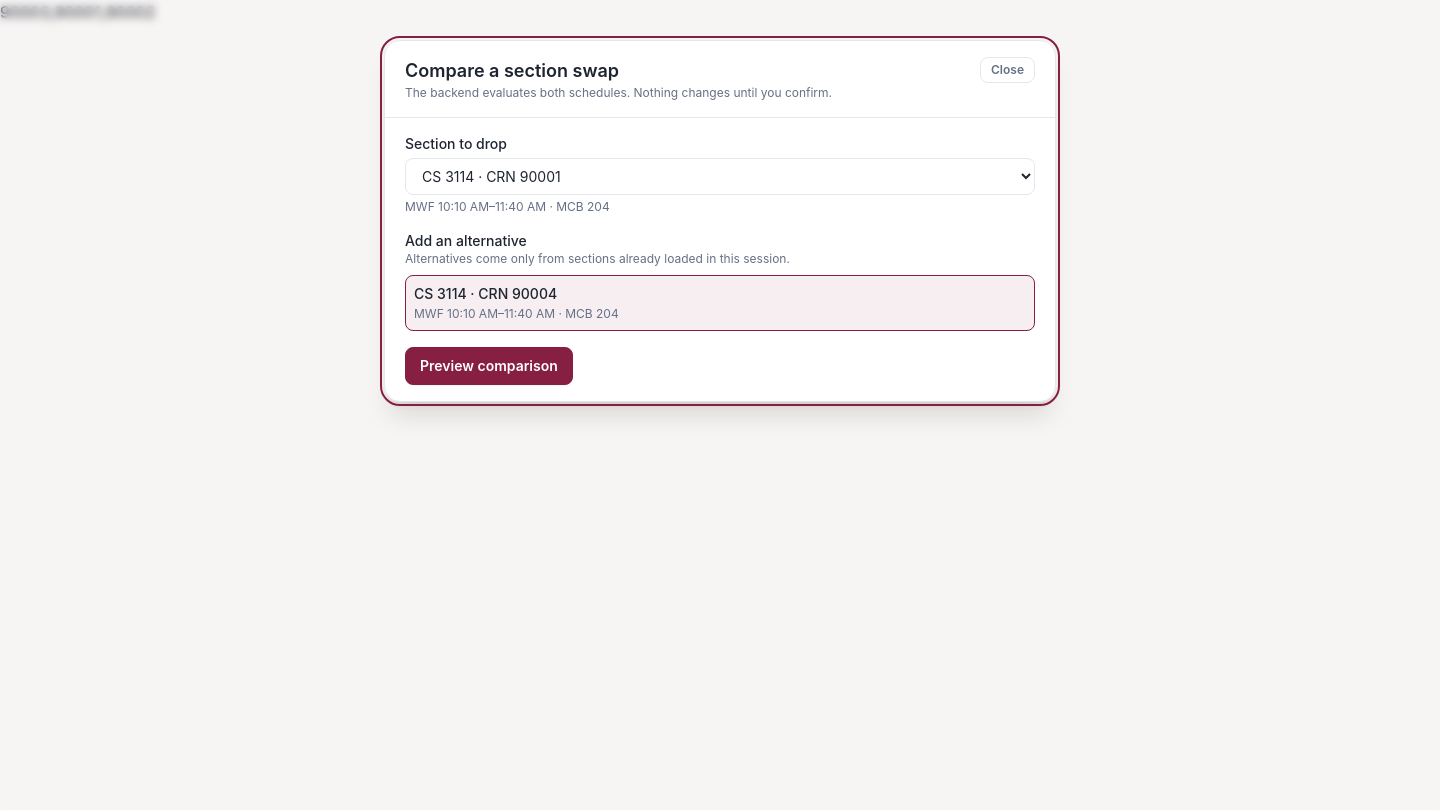
Test: SwapWorkbench › previews with current_crns in order and does not mutate the URL
Click the button with test id "swap-preview": x=489, y=366 [405,347,573,385]
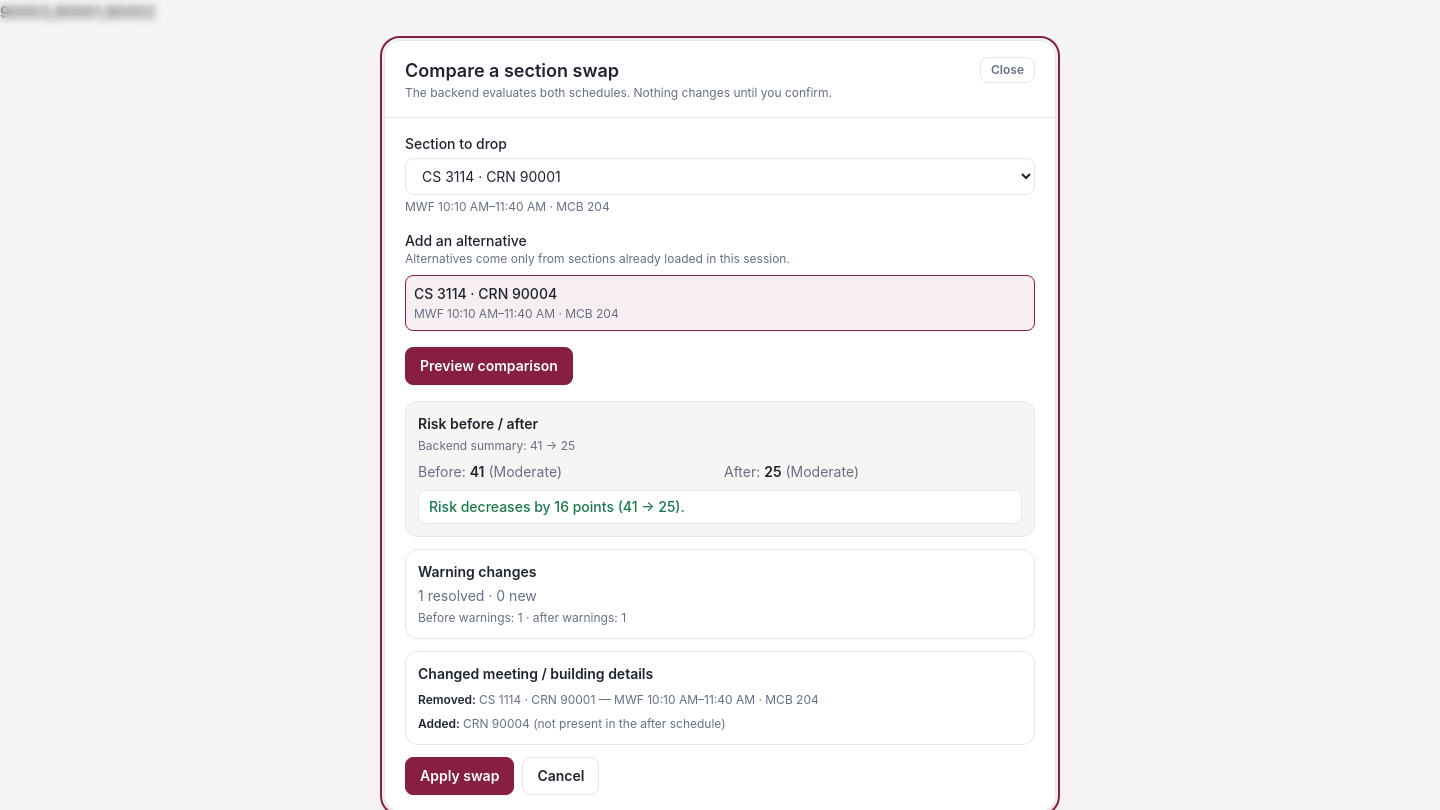
Check: the text with test id "crns" reads "90003,90001,90002", box [0,2,155,22]
Check: the element with test id "swap-result" is shown, box [405,401,1035,795]
Check: the button with test id "swap-apply" is shown, box [405,757,514,795]
